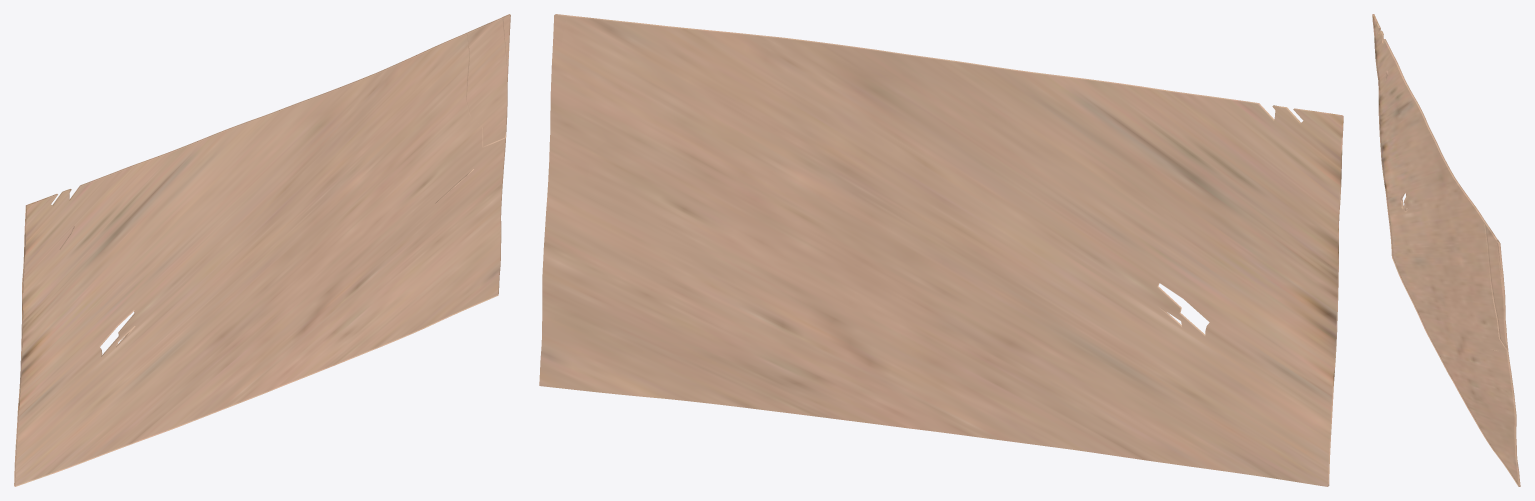
3 renders of one model, left to right at view 1: azimuth 30°, elevation 25°; view 2: azimuth 150°, elevation 25°; view 3: azimuth 270°, elevation 25°, orthographic. The views are drawn at different scales.
Size of the model in its own units: 26.62 by 13.17 by 7.28.
1 material, 1 textured.
